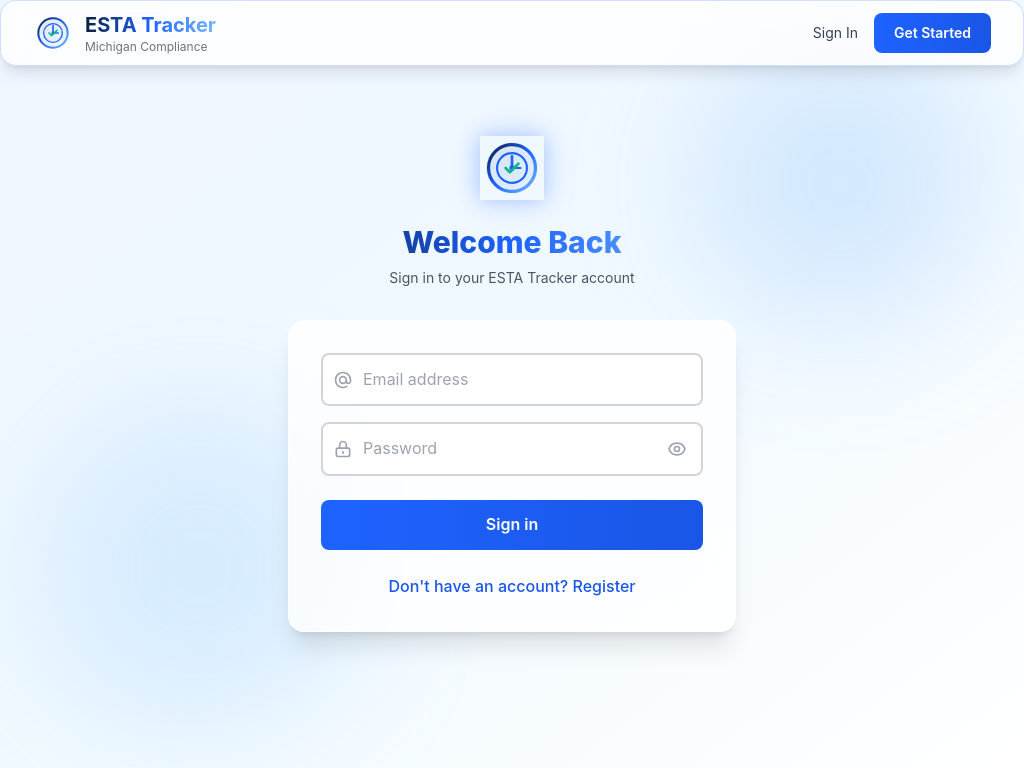
Scenario: Login Page › Error Handling › should display 401 unauthorized error
In the field with placeholder "Email address": (512, 380) [321,353,703,406], type "test@example.com"
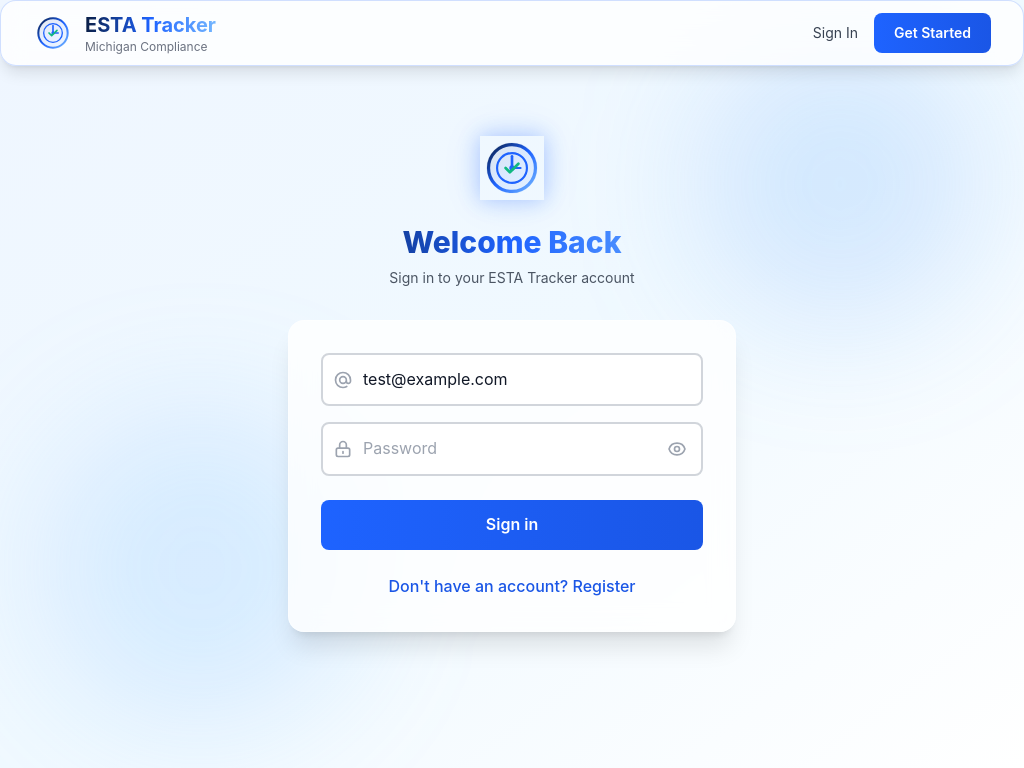
In the password field with placeholder "Password": (512, 449) [321,422,703,476], type "wrongpassword"
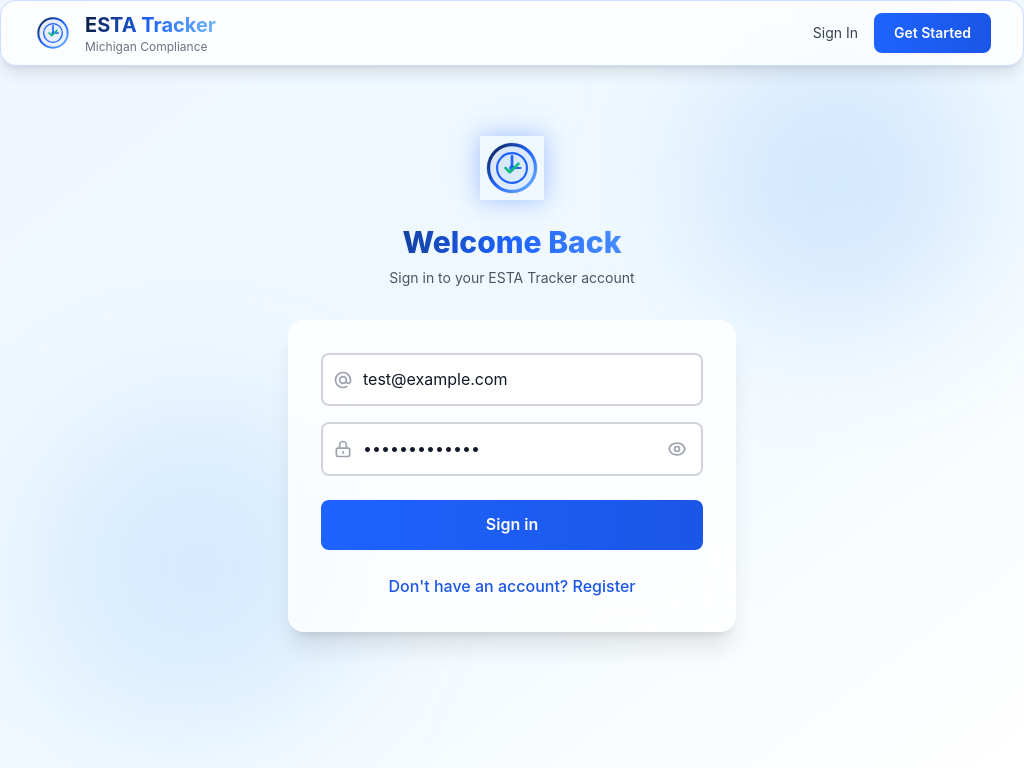
Click the button "Sign in": (512, 525) [321,500,703,550]
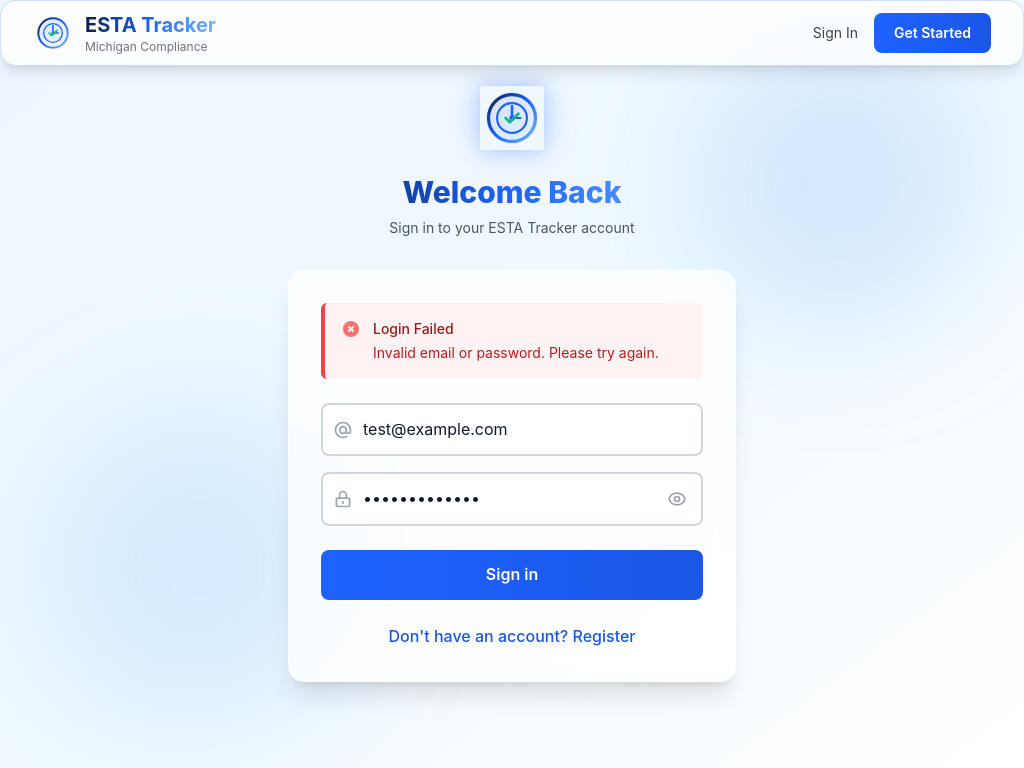
Expected: the text "Invalid email or password. Please try again." is shown, [373,343,687,363]
